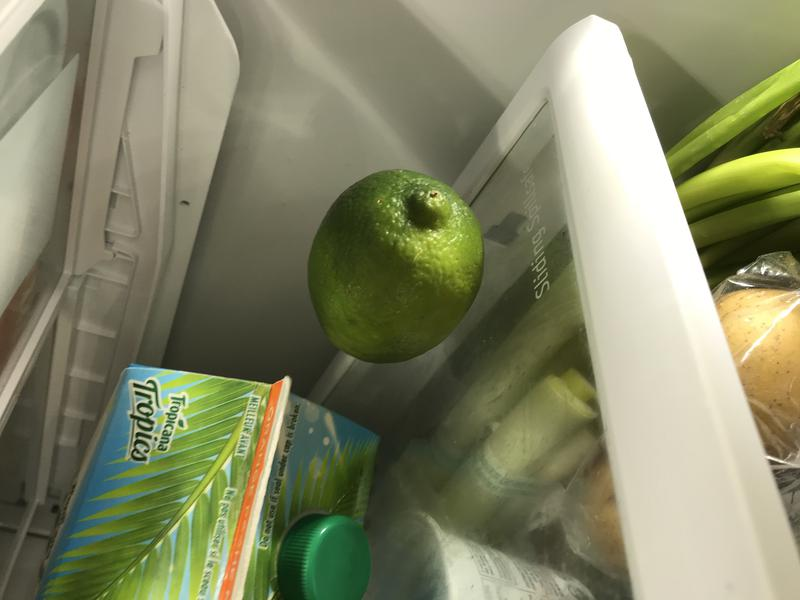lime: (292, 163, 493, 372)
